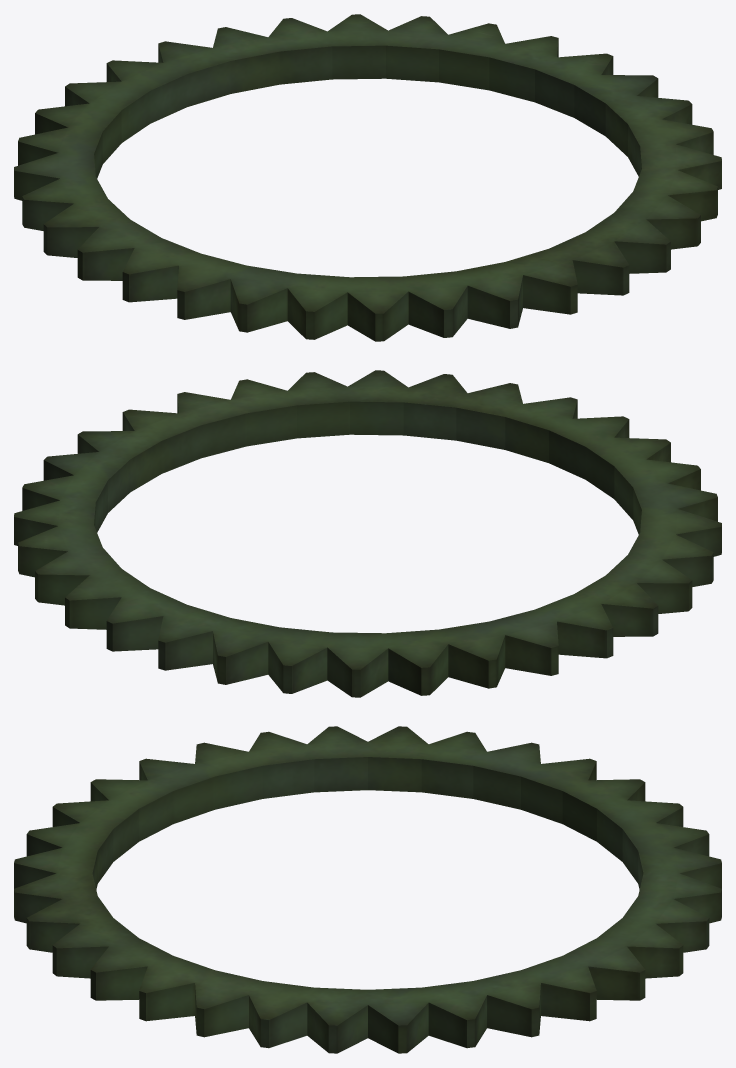
Rendered from Green Gear.fbx.
3 views of the same model, one above another, from view 1: azimuth 30°, elevation 25°; view 2: azimuth 150°, elevation 25°; view 3: azimuth 270°, elevation 25° (orthographic).
Parts seen in each view (by area): view 1: Green Gear; view 2: Green Gear; view 3: Green Gear.
Boxes of the visible parts, x1=… form: Green Gear: x1=14, y1=14, x2=721, y2=341; Green Gear: x1=14, y1=370, x2=721, y2=697; Green Gear: x1=14, y1=726, x2=721, y2=1053.
Size of the model in its own units: 30.95 by 1.6 by 30.95.
